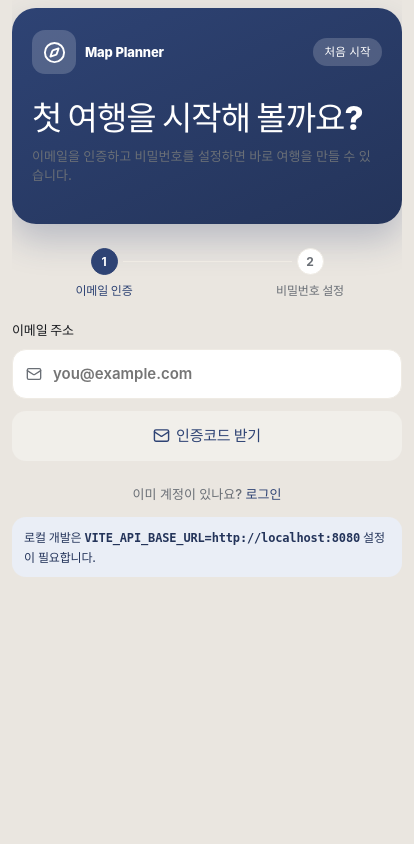
Test case: ManageAuthSection › 인증코드에서 숫자만 유지하고 가입 목적으로 검증한다
This screenshot has width=414, height=844.
Step 1. Type "traveler@example.com" into the field labelled "이메일 주소" → (207, 374), box [12,349,402,399]
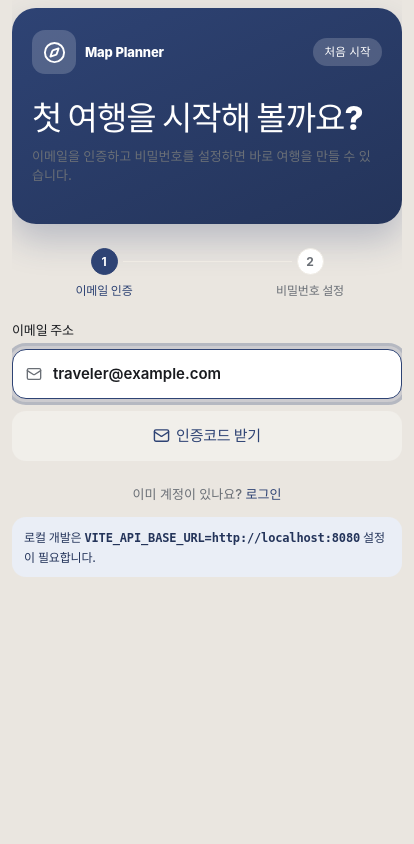
Step 2. Click the button "인증코드 받기" → (207, 436), box [12,411,402,461]
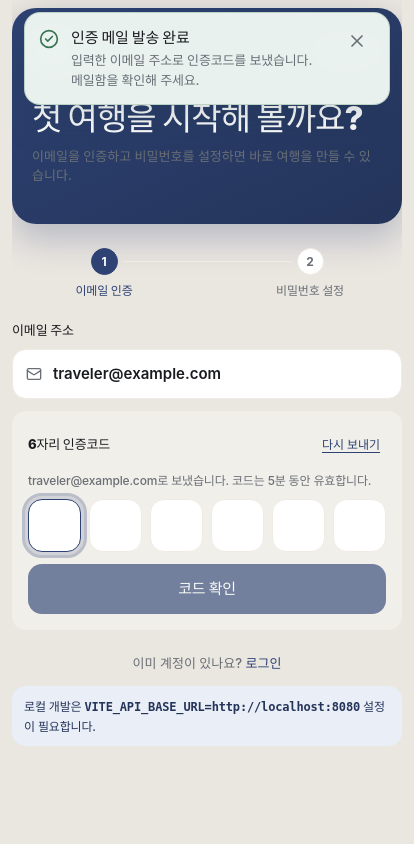
Step 3. Type "12a34b56" into the field labelled "6자리 인증코드" → (54, 525), box [28,499,81,552]
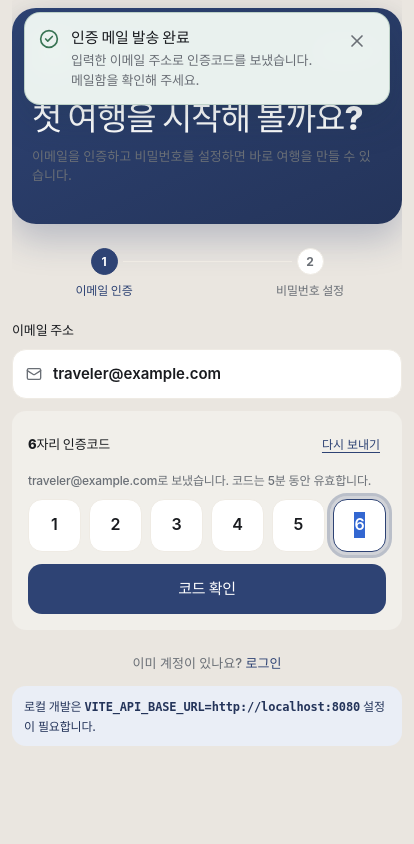
Step 4. Click the button "코드 확인" → (207, 589), box [28,564,386,614]
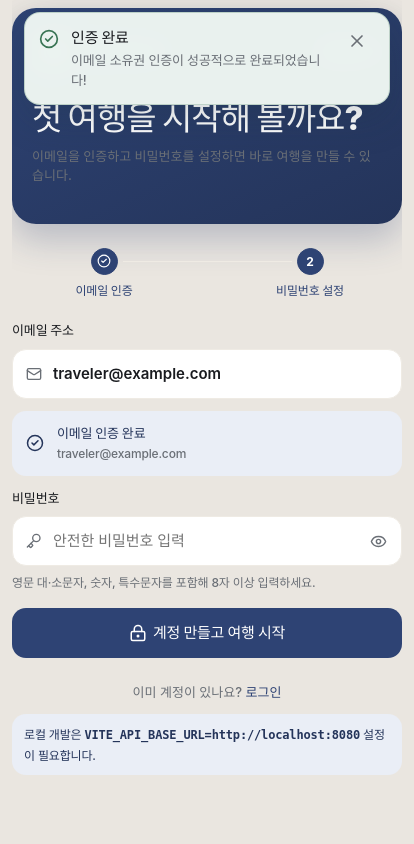
Expected: the text "이메일 인증 완료" is shown, [57,425,145,441]
Expected: the password field labelled "비밀번호" is shown, [12,516,402,566]
Expected: the button "계정 만들고 여행 시작" is shown, [12,608,402,658]
